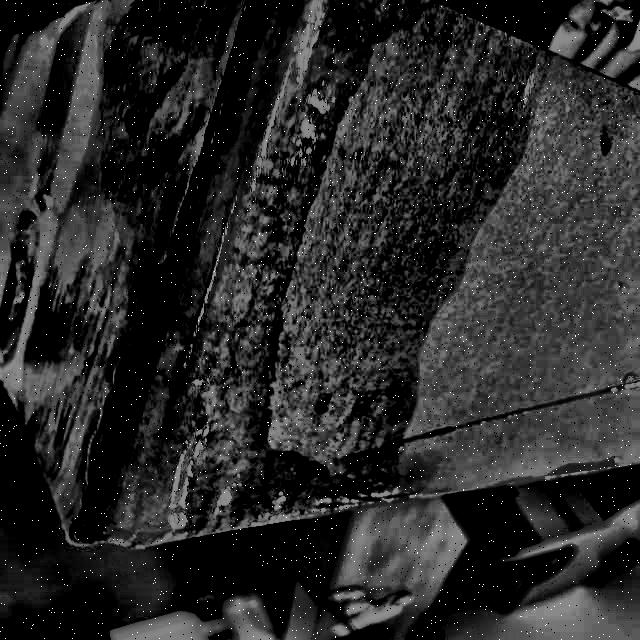box: (1, 1, 640, 554)
wet: (13, 0, 548, 501)
